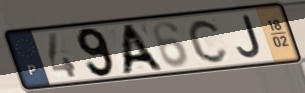4: (47, 31, 80, 81)
6: (151, 20, 191, 70)
9: (74, 26, 120, 79)
A: (119, 22, 167, 76)
C: (186, 17, 231, 65)
J: (235, 13, 264, 60)
